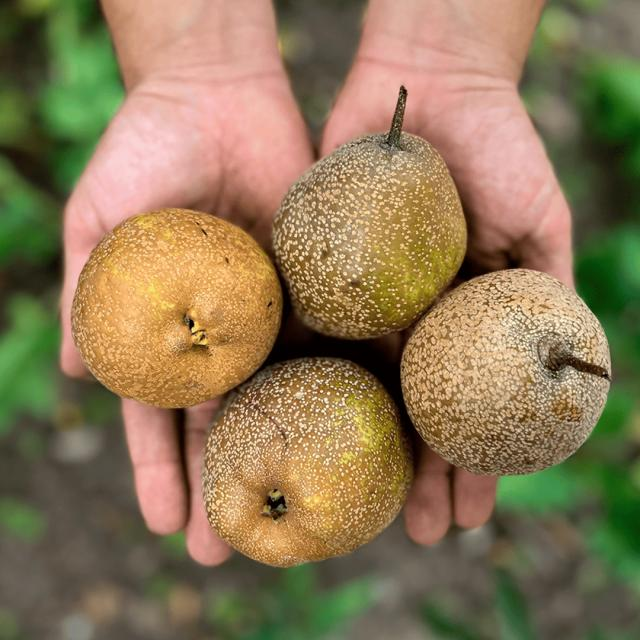pera: (258, 80, 478, 356), (57, 204, 284, 411)
